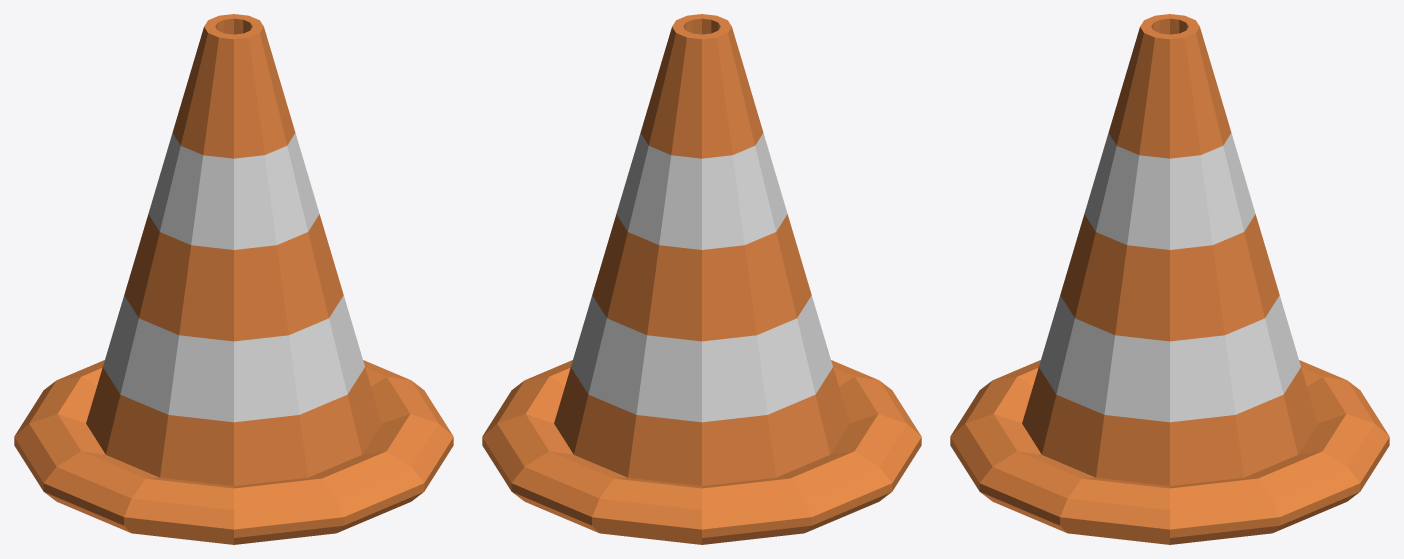
The picture shows the model from 3 angles, left to right: view 1: azimuth 30°, elevation 25°; view 2: azimuth 150°, elevation 25°; view 3: azimuth 270°, elevation 25°; orthographic projection.
Visible parts, largest first — view 1: Cone A; view 2: Cone A; view 3: Cone A.
Boxes of the visible parts, <box> form: Cone A: <box>14,14,453,544</box>; Cone A: <box>482,14,921,544</box>; Cone A: <box>950,14,1389,544</box>.
Size of the model in its own units: 55.72 by 60.38 by 55.72.
